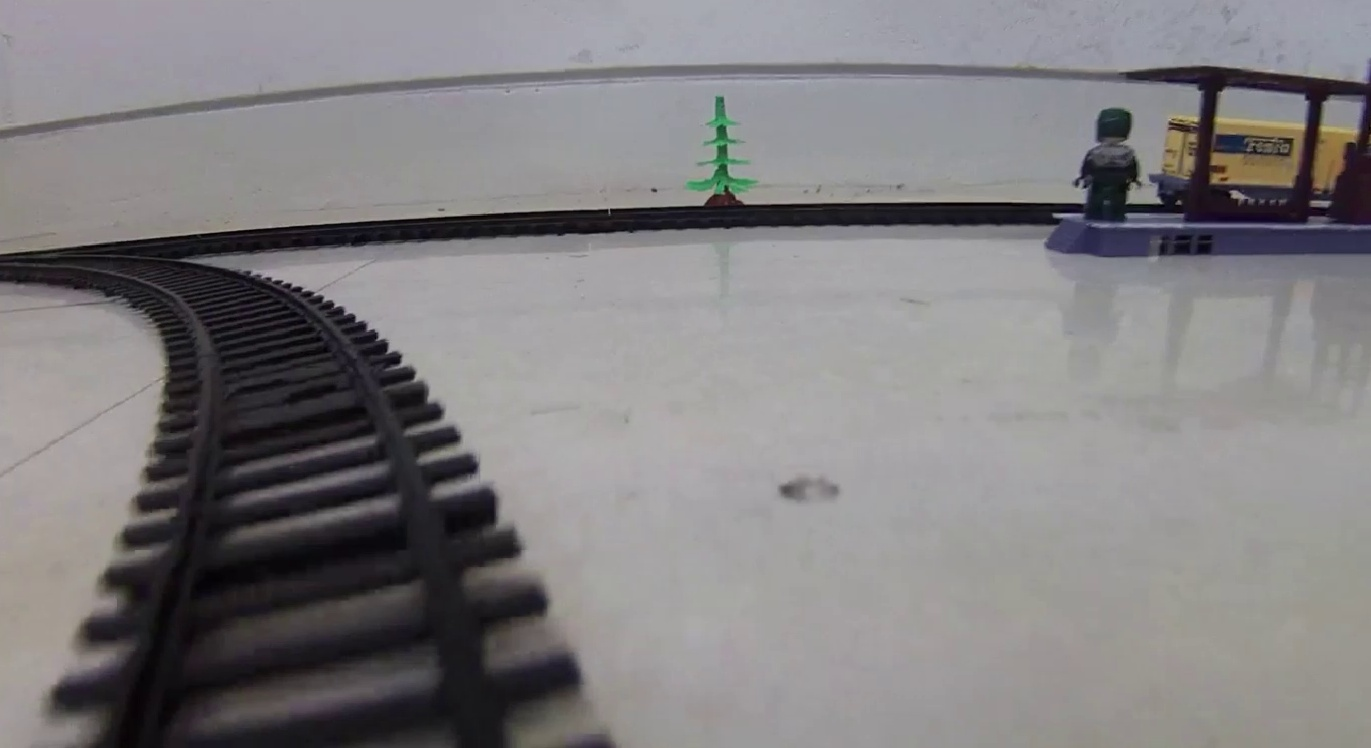people: (1072, 106, 1143, 217)
tree: (683, 94, 757, 207)
